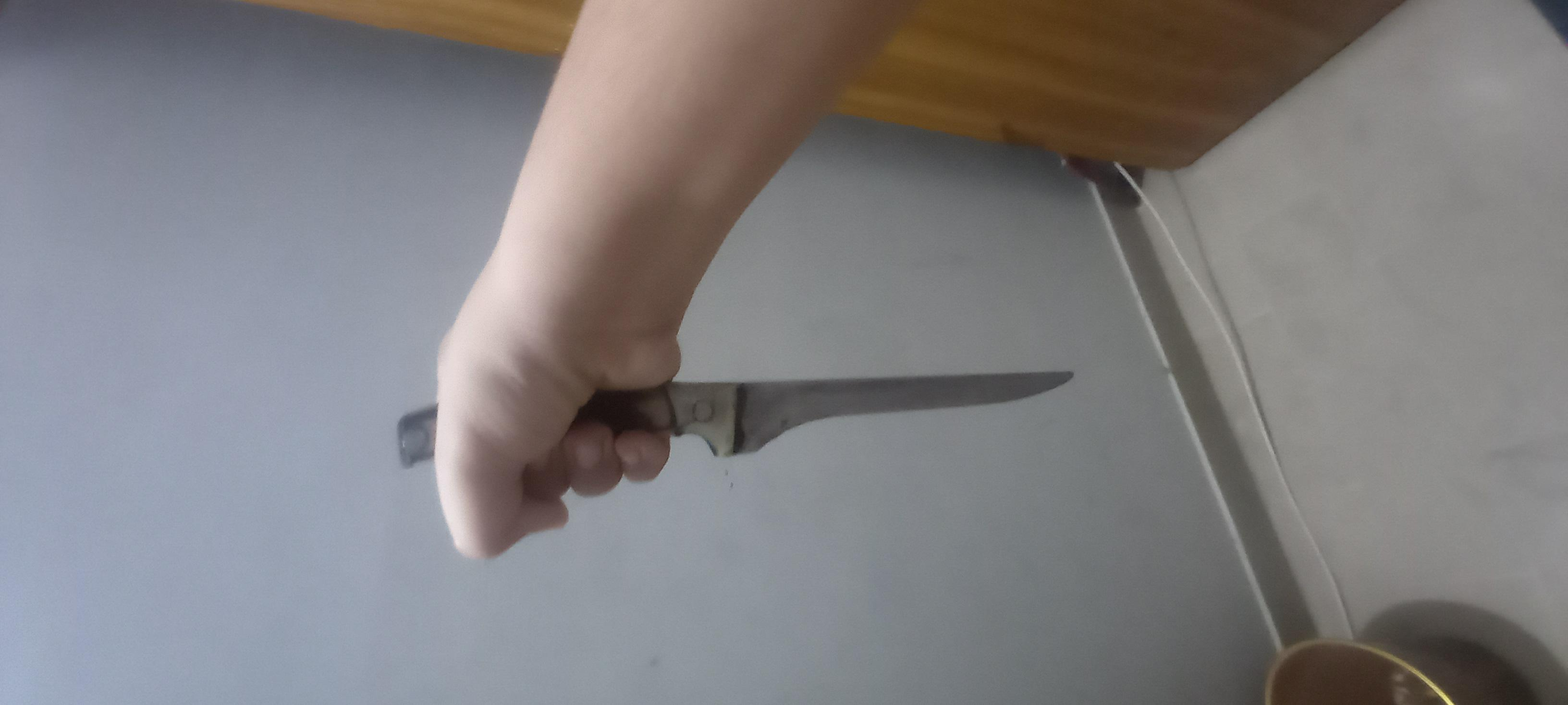knives: (437, 156, 803, 492)
